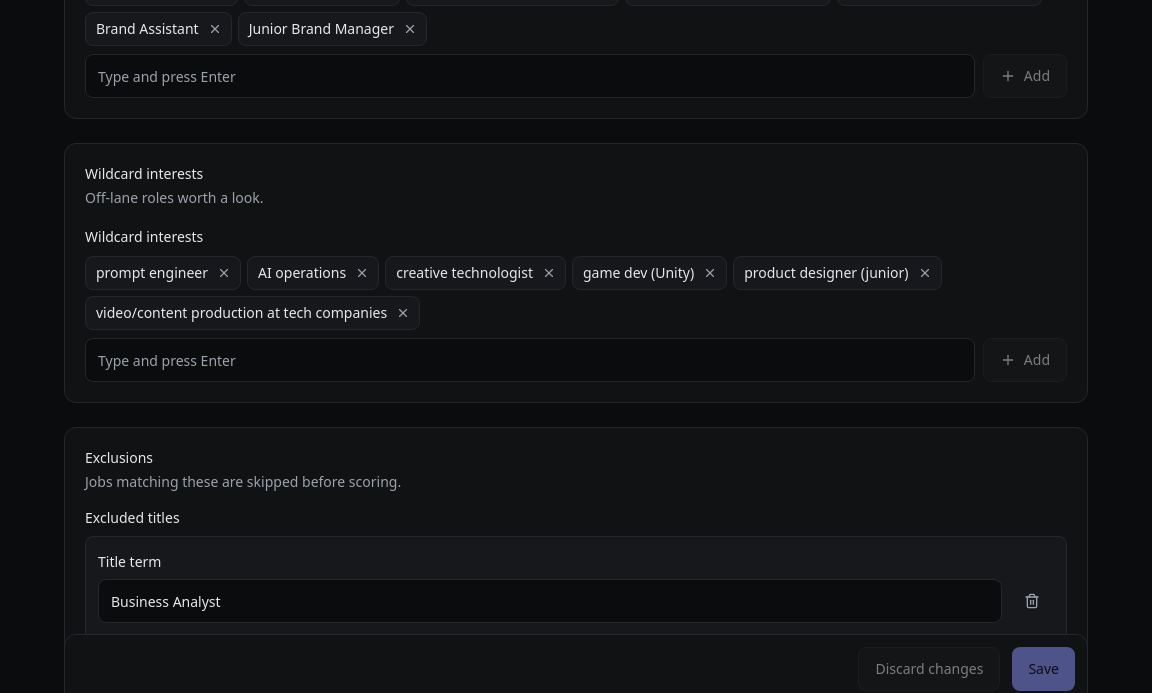
Test case: Criteria form › rejects duplicate list items
(page scrolled)
Step 1. Type "Prompt Engineer" into the field labelled "Wildcard interests" → coordinates (530, 360), box [85, 338, 975, 382]
Then press Enter
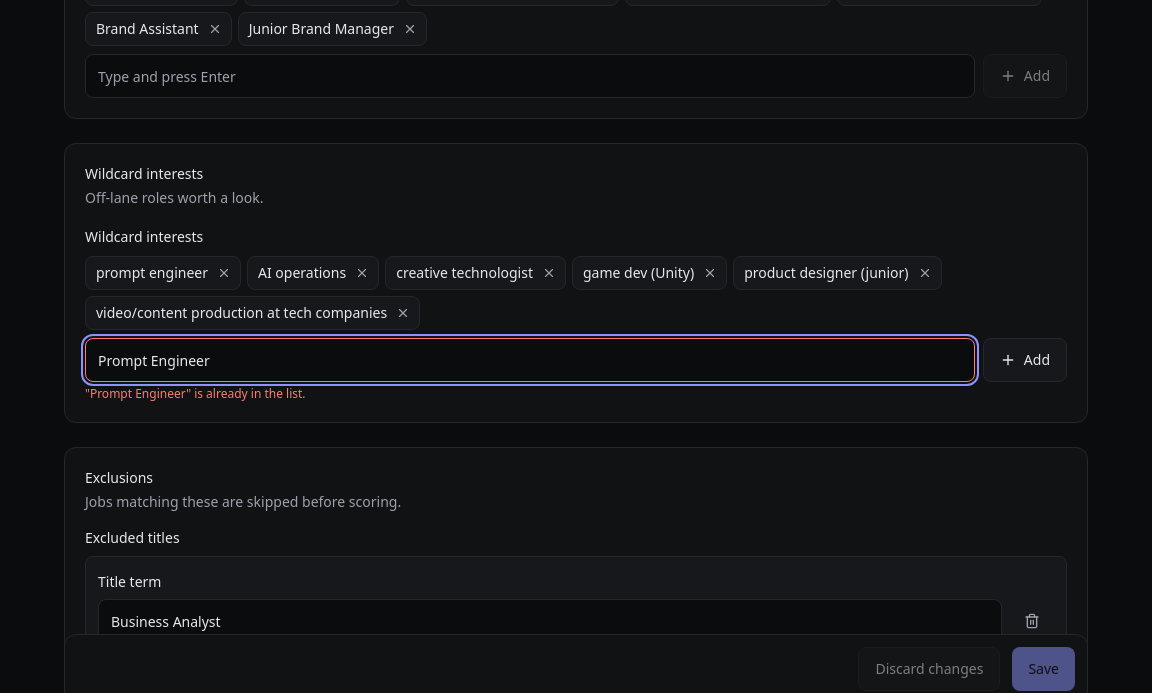
Expected: the text "\"Prompt Engineer\" is already in the list." is shown, [85, 385, 306, 402]
